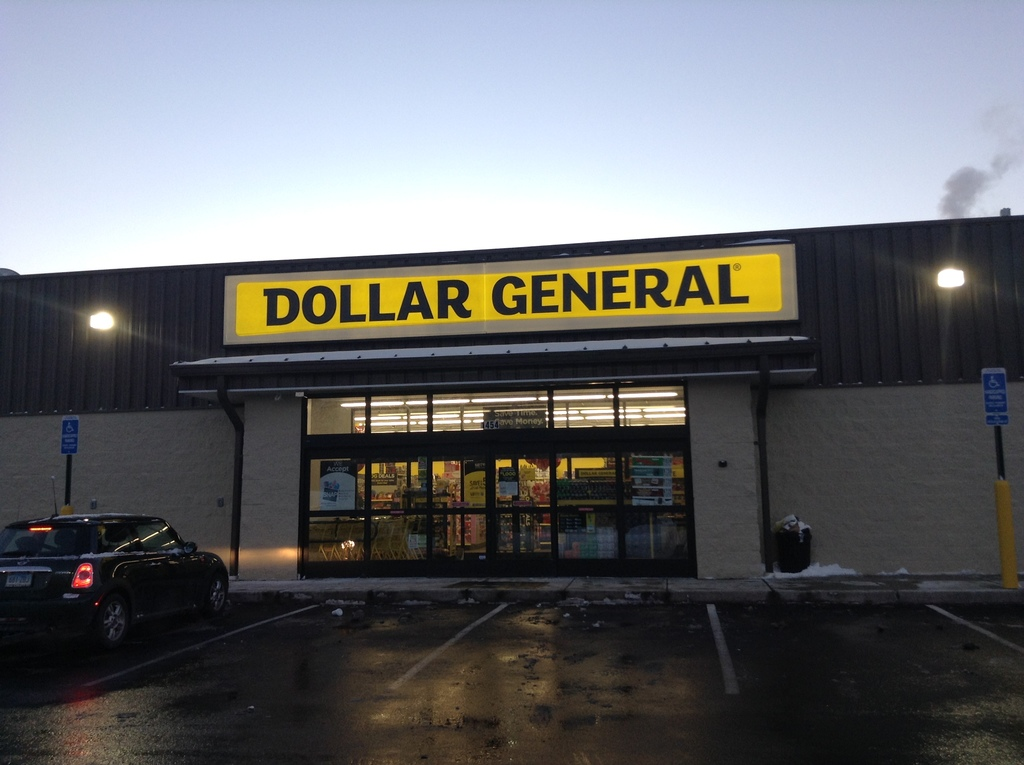Car: (0, 476, 232, 648)
